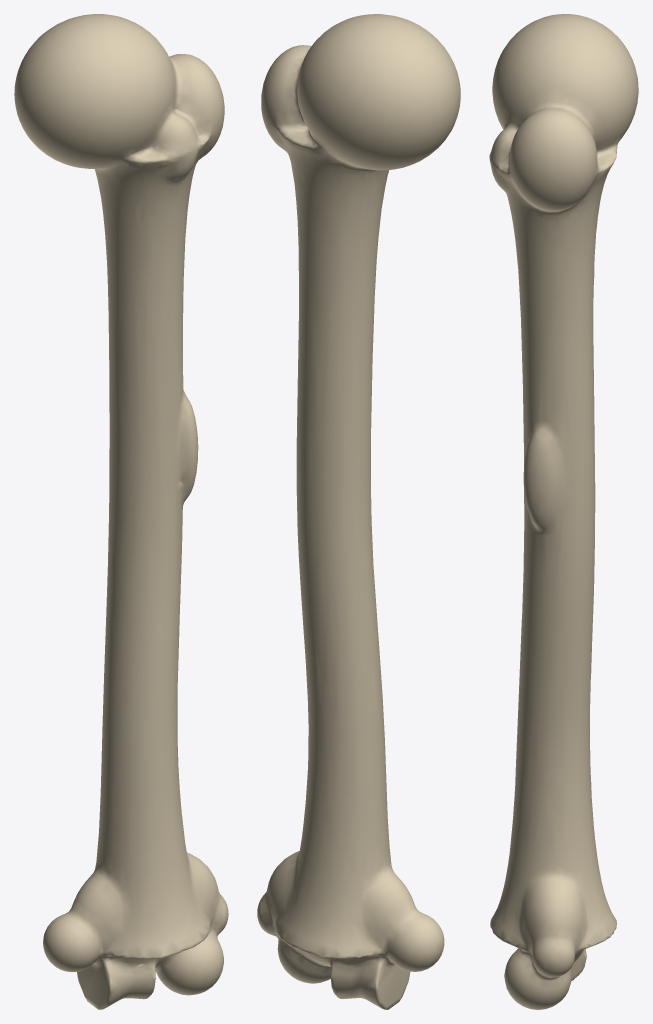
Rendered from humerus-study-v2-macro-normal.glb.
The picture shows the model from 3 angles, left to right: view 1: azimuth 30°, elevation 25°; view 2: azimuth 150°, elevation 25°; view 3: azimuth 270°, elevation 25°; orthographic projection. The views are drawn at different scales.
Visible parts, largest first — view 1: humerus-continuous; view 2: humerus-continuous; view 3: humerus-continuous.
Part boxes in pixels (x1,y1,x2,y2): humerus-continuous: (14,14,228,1009); humerus-continuous: (257,14,460,1009); humerus-continuous: (489,14,638,1009).
Bounding box in the file's own units: 6.38 × 30.57 × 4.36.
